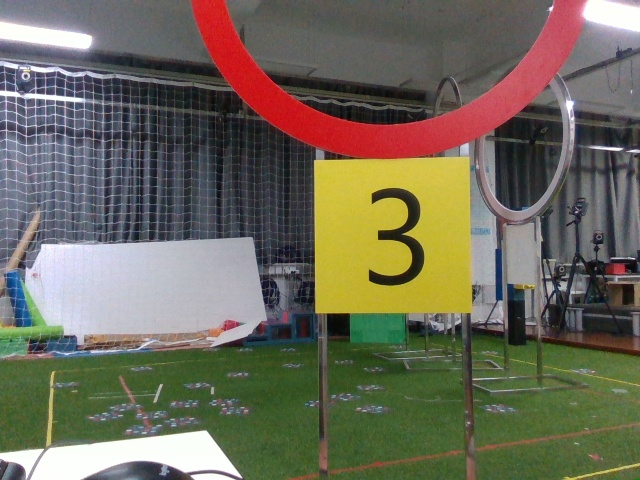target: (322, 161, 466, 310)
